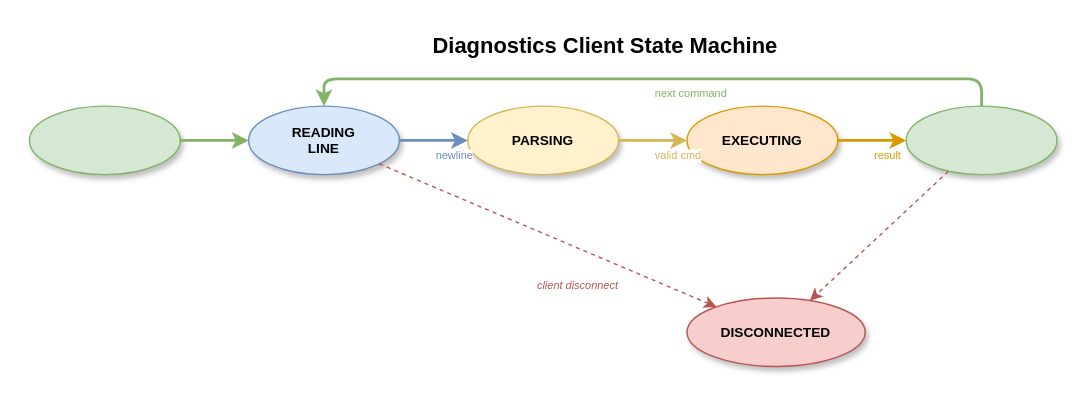
Some shapes in this 1089 by 400 pixel diagram are drawn without their labels. Here are the shapes that lost their labels. From the top down, the centre of each, then its label:
At point 105,141: "CONNECTED".
At point 982,141: "WRITING RESPONSE".
